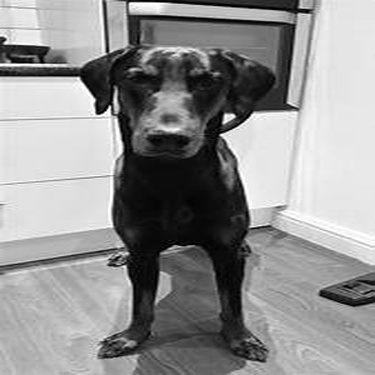dog: (47, 32, 289, 372)
